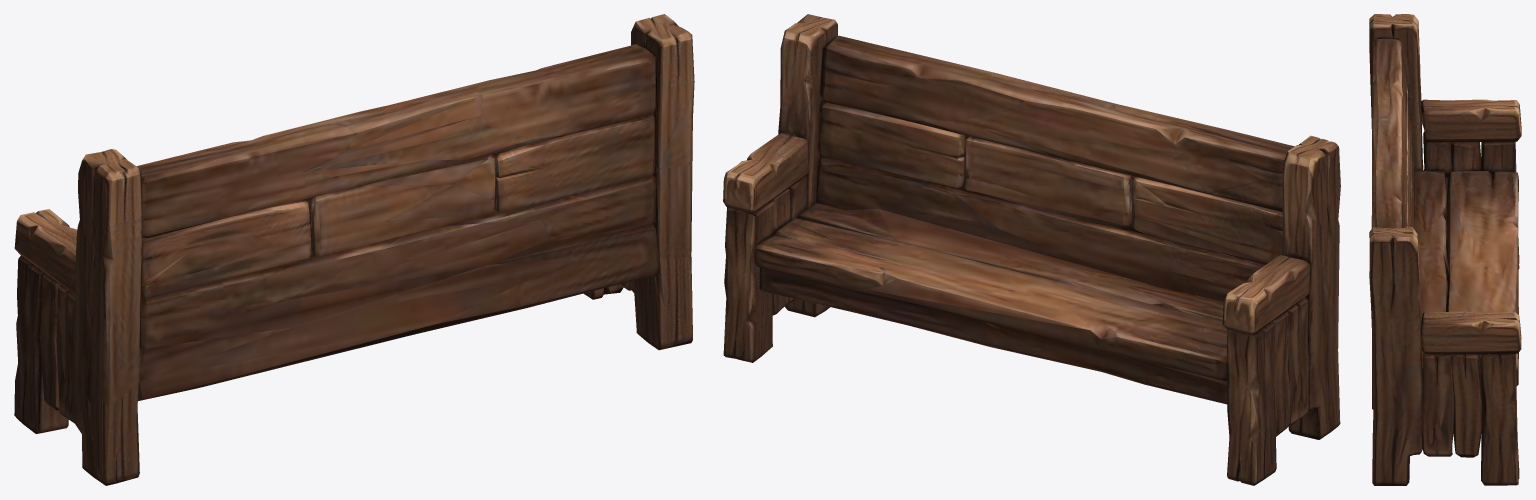
File: pew_3d.glb
3 views of the same model, side by side, from view 1: azimuth 30°, elevation 25°; view 2: azimuth 150°, elevation 25°; view 3: azimuth 270°, elevation 25° (orthographic). The views are drawn at different scales.
Visible parts, largest first — view 1: Mesh_0; view 2: Mesh_0; view 3: Mesh_0.
Part boxes in pixels (bbox=[...]): Mesh_0: bbox=[14, 14, 694, 485]; Mesh_0: bbox=[723, 14, 1340, 485]; Mesh_0: bbox=[1369, 14, 1521, 485].
Size of the model in its own units: 1.73 by 0.875 by 0.488.
1 material, 1 textured.
